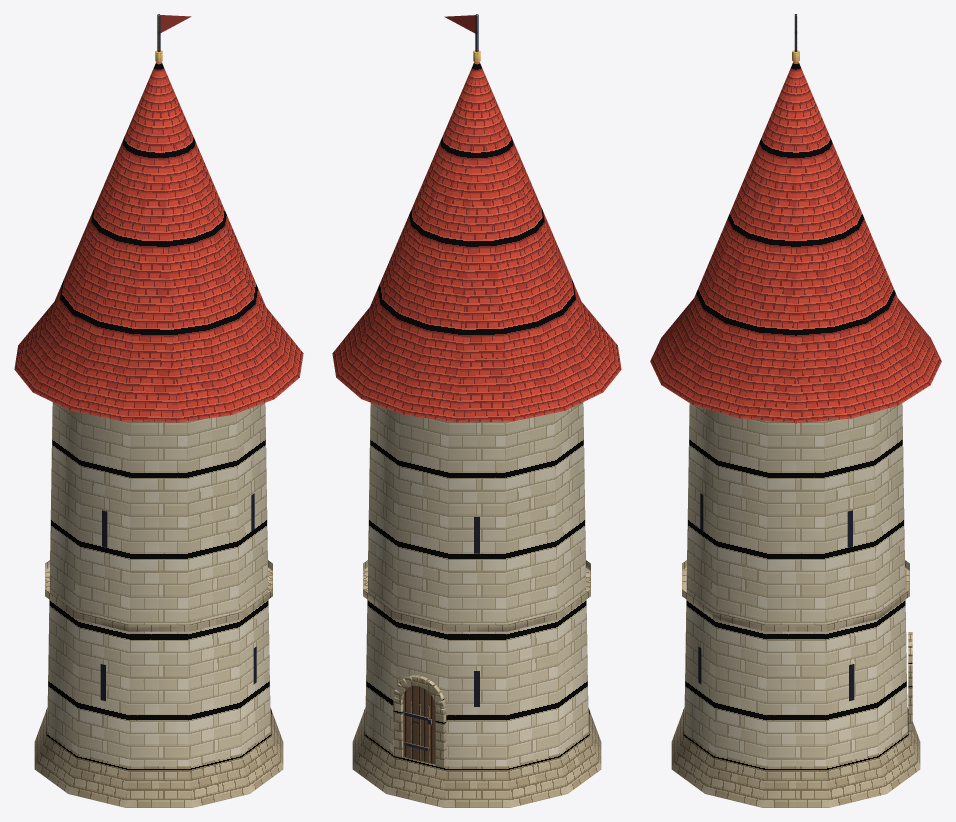
Rendered from town_wall_tower_0.glb.
The picture shows the model from 3 angles, left to right: view 1: azimuth 30°, elevation 25°; view 2: azimuth 150°, elevation 25°; view 3: azimuth 270°, elevation 25°; orthographic projection.
Parts seen in each view (by area): view 1: town_wall_tower_1; view 2: town_wall_tower_1; view 3: town_wall_tower_1.
Part boxes in pixels (box(x1,y1,x2,y2)): town_wall_tower_1: box(14, 14, 303, 807); town_wall_tower_1: box(332, 14, 621, 807); town_wall_tower_1: box(650, 14, 941, 807).
Bounding box in the file's own units: 6.58 × 18.44 × 6.58.
8 materials, 8 textured.
